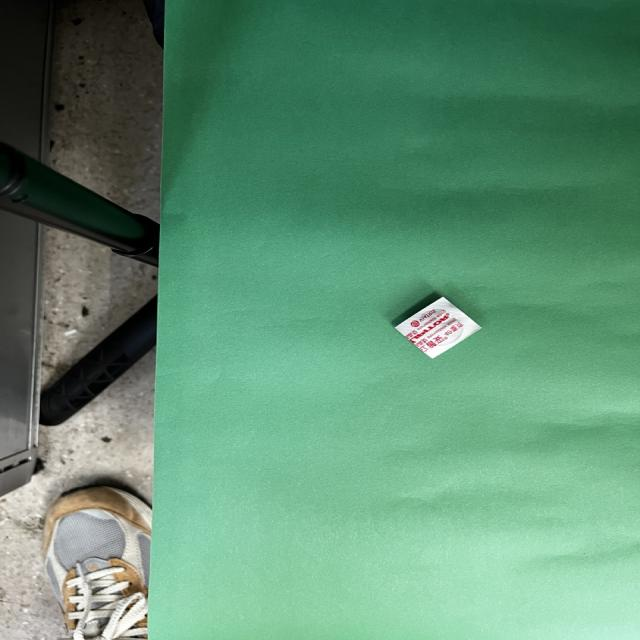Other Objects: (395, 297, 479, 358)
